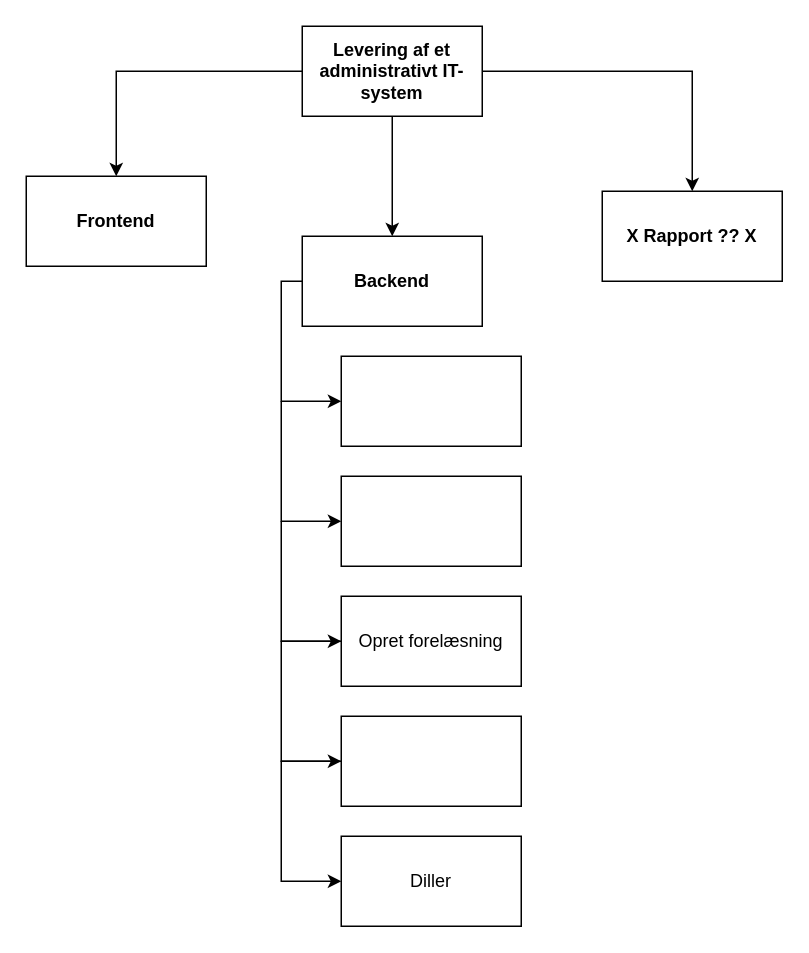
This 809x953 diagram has some shape labels left out. Each missing label, with the centre of its shape:
Login: the point at 430,520
Rediger profil eller forelæsning: the point at 430,760
Registration: the point at 430,400
